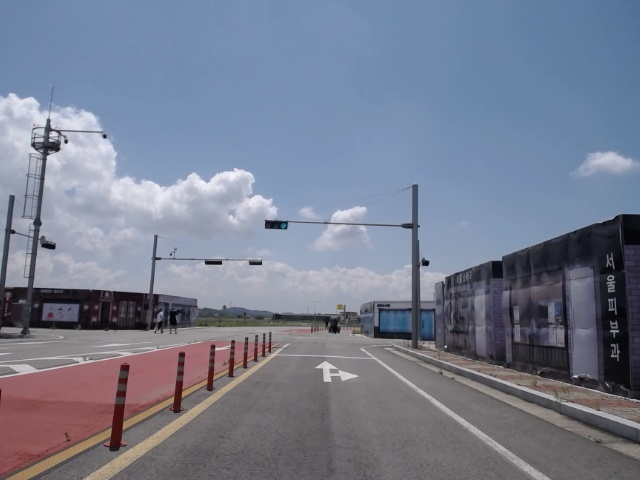green_3: (265, 219, 289, 230)
